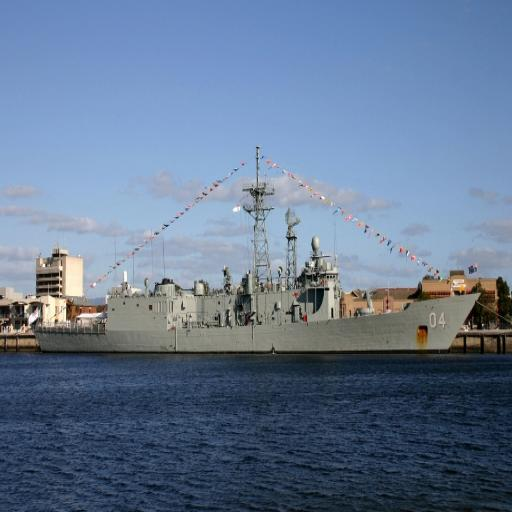Fragata: (32, 138, 485, 354)
